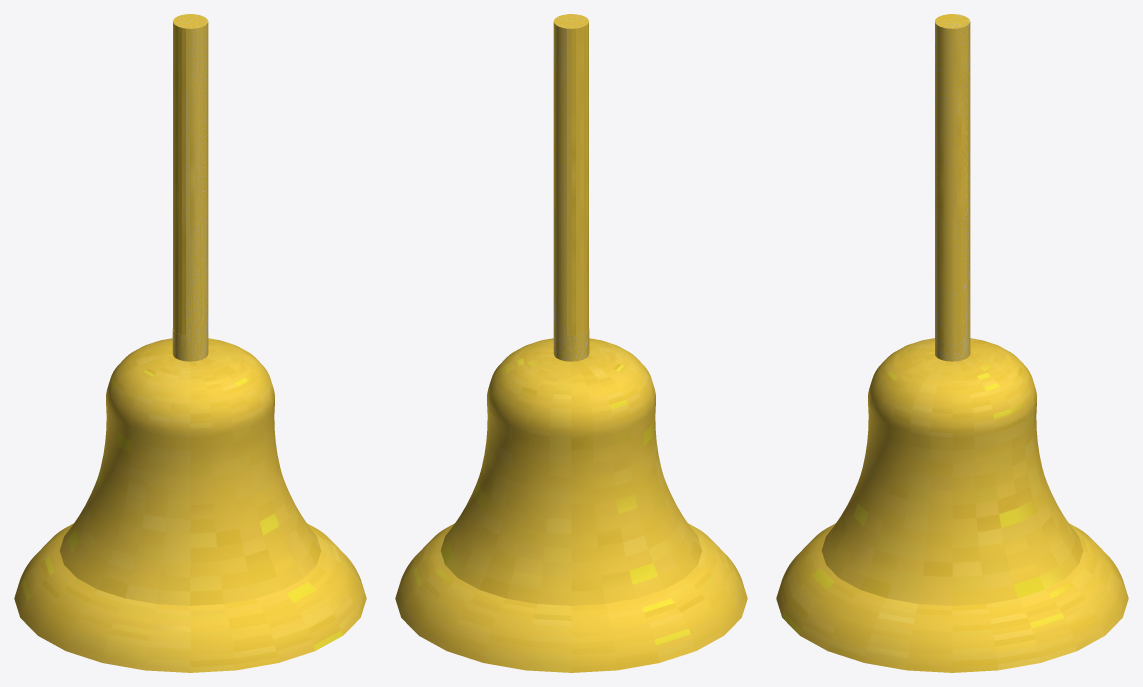
The model's file is instr11.fbx.
The picture shows the model from 3 angles, left to right: view 1: azimuth 30°, elevation 25°; view 2: azimuth 150°, elevation 25°; view 3: azimuth 270°, elevation 25°; orthographic projection.
Parts seen in each view (by area): view 1: Group1; view 2: Group1; view 3: Group1.
Part boxes in pixels (box(x1,y1,x2,y2)): Group1: box(14, 14, 366, 672); Group1: box(395, 14, 747, 672); Group1: box(776, 14, 1128, 672).
Bounding box in the file's own units: 23.64 × 44.69 × 23.64.
